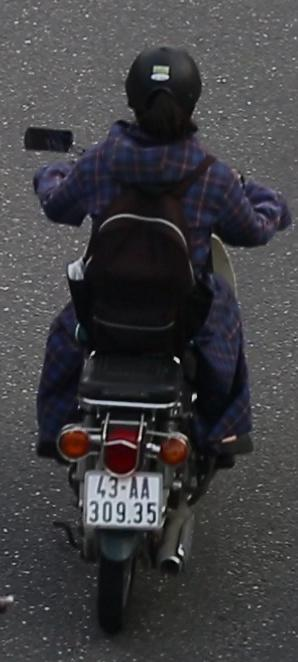LP: (79, 463, 169, 532)
helmet: (119, 37, 217, 160)
